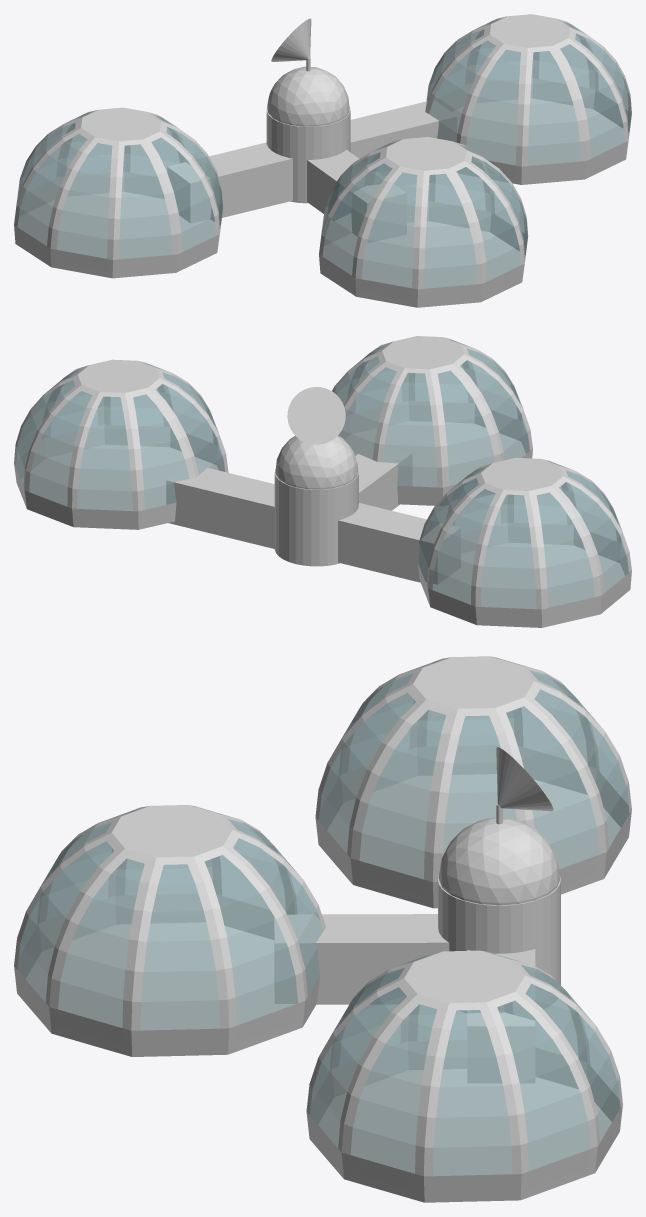
Rendered from lunar_base.glb.
3 views of the same model, one above another, from view 1: azimuth 30°, elevation 25°; view 2: azimuth 150°, elevation 25°; view 3: azimuth 270°, elevation 25° (orthographic). The views are drawn at different scales.
Parts seen in each view (by area): view 1: Sphere.002_4, Sphere_2, Sphere.001_3, Cube.001_8, Cube.002_9, Icosphere_1, Cube_7, Cylinder_0, Cone_5; view 2: Sphere.002_4, Sphere.001_3, Sphere_2, Cube.001_8, Cube_7, Cylinder_0, Icosphere_1, Cube.002_9, Cone_5; view 3: Sphere.001_3, Sphere_2, Sphere.002_4, Cube.002_9, Icosphere_1, Cylinder_0, Cube_7, Cone_5.
Part boxes in pixels (x1,y1,x2,y2): Sphere.002_4: (14,107,223,278); Sphere_2: (319,137,528,307); Sphere.001_3: (425,14,631,184); Cube.001_8: (167,142,292,223); Cube.002_9: (307,149,406,242); Icosphere_1: (267,66,349,126); Cube_7: (350,100,456,175); Cylinder_0: (266,106,350,203); Cone_5: (271,18,311,61); Sphere.002_4: (417,458,631,627); Sphere.001_3: (14,359,228,529); Sphere_2: (332,336,532,505); Cube.001_8: (338,503,460,584); Cube_7: (166,465,274,548); Cylinder_0: (274,469,358,566); Icosphere_1: (275,435,357,489); Cube.002_9: (355,443,412,510); Cone_5: (287,387,345,444); Sphere.001_3: (306,950,622,1202); Sphere_2: (14,805,325,1056); Sphere.002_4: (315,656,631,908); Cube.002_9: (274,914,449,1004); Icosphere_1: (438,817,559,905); Cylinder_0: (438,876,560,1012); Cube_7: (467,949,535,1082); Cone_5: (496,747,553,811).
Size of the model in its own units: 10.66 by 2.84 by 6.65.
